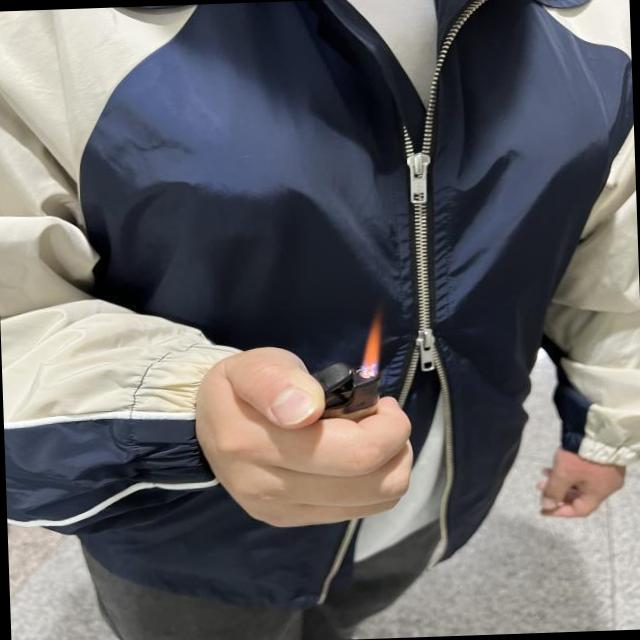Fire: (356, 321, 384, 372)
